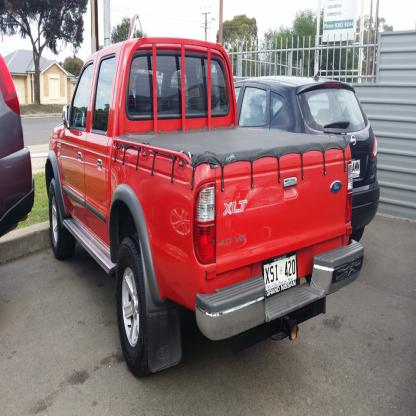Car: (234, 58, 380, 245), (0, 52, 35, 239)
Truck: (46, 37, 364, 380)
